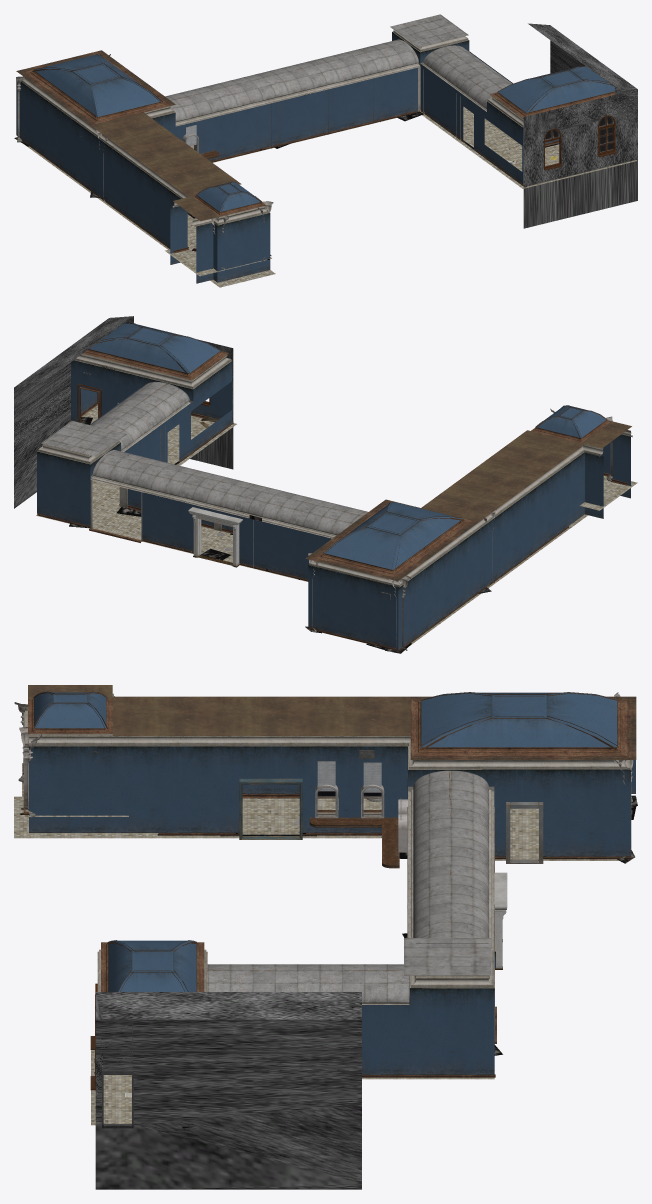
File: st4_313_0_terrain_00ms.fbx
3 renders of one model, top to bottom at view 1: azimuth 30°, elevation 25°; view 2: azimuth 150°, elevation 25°; view 3: azimuth 270°, elevation 25°, orthographic. The views are drawn at different scales.
Visible parts, largest first — view 1: LOD_1_Group_0_Sub_2__st2_police1fRightWall01, LOD_1_Group_0_Sub_24__OutWall, LOD_1_Group_0_Sub_6__st2_police1fRightCeiling02, LOD_1_Group_0_Sub_4__st2_police1fRightWall03, LOD_1_Group_0_Sub_5__st2_police1fRightCeiling01, LOD_1_Group_0_Sub_1__st2_police1fRightFloor01, LOD_1_Group_0_Sub_13__st2_police1fRightWindows01, LOD_1_Group_0_Sub_15__st2_police1fRightPillar01, LOD_1_Group_0_Sub_14__st2_police1fRightWindows01_Glass; view 2: LOD_1_Group_0_Sub_2__st2_police1fRightWall01, LOD_1_Group_0_Sub_4__st2_police1fRightWall03, LOD_1_Group_0_Sub_6__st2_police1fRightCeiling02, LOD_1_Group_0_Sub_24__OutWall, LOD_1_Group_0_Sub_5__st2_police1fRightCeiling01, LOD_1_Group_0_Sub_1__st2_police1fRightFloor01, LOD_1_Group_0_Sub_10__st2_police1fRightDoor12, LOD_1_Group_0_Sub_25__st2_police1fRightDirt02, LOD_1_Group_0_Sub_15__st2_police1fRightPillar01; view 3: LOD_1_Group_0_Sub_2__st2_police1fRightWall01, LOD_1_Group_0_Sub_24__OutWall, LOD_1_Group_0_Sub_6__st2_police1fRightCeiling02, LOD_1_Group_0_Sub_4__st2_police1fRightWall03, LOD_1_Group_0_Sub_5__st2_police1fRightCeiling01, LOD_1_Group_0_Sub_1__st2_police1fRightFloor01, LOD_1_Group_0_Sub_12__st2_police1fRightTable01, LOD_1_Group_0_Sub_28__st2_Police1fRightShutter01, LOD_1_Group_0_Sub_26__st2_police1fRightWindows02, LOD_1_Group_0_Sub_15__st2_police1fRightPillar01, LOD_1_Group_0_Sub_7__st2_police1fRightDoor01, LOD_1_Group_0_Sub_10__st2_police1fRightDoor12 (+1 smaller).
Boxes of the visible parts, x1=… form: LOD_1_Group_0_Sub_2__st2_police1fRightWall01: x1=16, y1=32, x2=614, y2=283; LOD_1_Group_0_Sub_24__OutWall: x1=523, y1=23, x2=637, y2=228; LOD_1_Group_0_Sub_6__st2_police1fRightCeiling02: x1=165, y1=14, x2=512, y2=121; LOD_1_Group_0_Sub_4__st2_police1fRightWall03: x1=16, y1=30, x2=614, y2=269; LOD_1_Group_0_Sub_5__st2_police1fRightCeiling01: x1=91, y1=112, x2=241, y2=221; LOD_1_Group_0_Sub_1__st2_police1fRightFloor01: x1=25, y1=106, x2=636, y2=287; LOD_1_Group_0_Sub_13__st2_police1fRightWindows01: x1=544, y1=115, x2=616, y2=170; LOD_1_Group_0_Sub_15__st2_police1fRightPillar01: x1=16, y1=54, x2=273, y2=269; LOD_1_Group_0_Sub_14__st2_police1fRightWindows01_Glass: x1=545, y1=116, x2=613, y2=152; LOD_1_Group_0_Sub_2__st2_police1fRightWall01: x1=37, y1=322, x2=630, y2=650; LOD_1_Group_0_Sub_4__st2_police1fRightWall03: x1=37, y1=322, x2=632, y2=651; LOD_1_Group_0_Sub_6__st2_police1fRightCeiling02: x1=41, y1=382, x2=367, y2=534; LOD_1_Group_0_Sub_24__OutWall: x1=14, y1=316, x2=233, y2=508; LOD_1_Group_0_Sub_5__st2_police1fRightCeiling01: x1=421, y1=421, x2=631, y2=521; LOD_1_Group_0_Sub_1__st2_police1fRightFloor01: x1=36, y1=405, x2=637, y2=646; LOD_1_Group_0_Sub_10__st2_police1fRightDoor12: x1=188, y1=507, x2=242, y2=567; LOD_1_Group_0_Sub_25__st2_police1fRightDirt02: x1=69, y1=366, x2=491, y2=653; LOD_1_Group_0_Sub_15__st2_police1fRightPillar01: x1=308, y1=408, x2=612, y2=650; LOD_1_Group_0_Sub_2__st2_police1fRightWall01: x1=29, y1=692, x2=635, y2=1074; LOD_1_Group_0_Sub_24__OutWall: x1=95, y1=992, x2=361, y2=1189; LOD_1_Group_0_Sub_6__st2_police1fRightCeiling02: x1=207, y1=770, x2=490, y2=1002; LOD_1_Group_0_Sub_4__st2_police1fRightWall03: x1=23, y1=691, x2=636, y2=1077; LOD_1_Group_0_Sub_5__st2_police1fRightCeiling01: x1=28, y1=685, x2=410, y2=735; LOD_1_Group_0_Sub_1__st2_police1fRightFloor01: x1=14, y1=763, x2=619, y2=1125; LOD_1_Group_0_Sub_12__st2_police1fRightTable01: x1=309, y1=810, x2=399, y2=868; LOD_1_Group_0_Sub_28__st2_Police1fRightShutter01: x1=316, y1=761, x2=401, y2=819; LOD_1_Group_0_Sub_26__st2_police1fRightWindows02: x1=315, y1=784, x2=407, y2=852; LOD_1_Group_0_Sub_15__st2_police1fRightPillar01: x1=14, y1=692, x2=634, y2=861; LOD_1_Group_0_Sub_7__st2_police1fRightDoor01: x1=239, y1=778, x2=302, y2=839; LOD_1_Group_0_Sub_10__st2_police1fRightDoor12: x1=494, y1=872, x2=507, y2=969.
Size of the model in its own units: 28.6 by 7.2 by 21.85.
